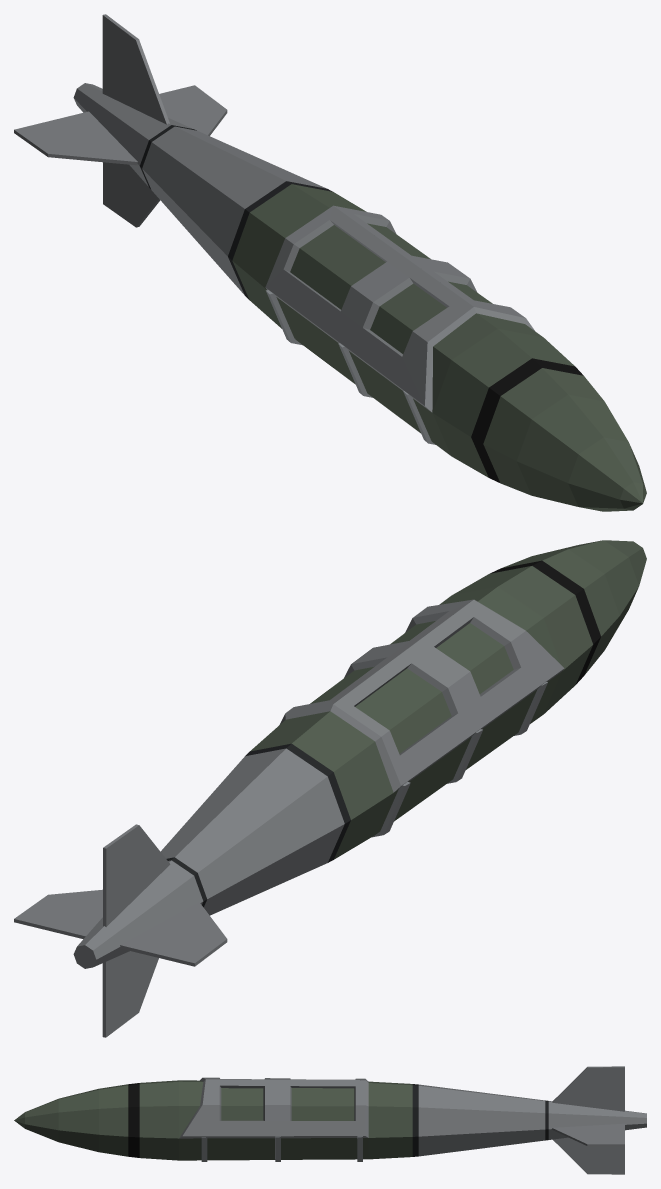
File: SM_Veh_Jet_Attach_Bomb_01.fbx
3 views of the same model, one above another, from view 1: azimuth 30°, elevation 25°; view 2: azimuth 150°, elevation 25°; view 3: azimuth 270°, elevation 25° (orthographic). The views are drawn at different scales.
Visible parts, largest first — view 1: SM_Veh_Jet_Attach_Bomb_01; view 2: SM_Veh_Jet_Attach_Bomb_01; view 3: SM_Veh_Jet_Attach_Bomb_01.
Part boxes in pixels (bbox=[...]): SM_Veh_Jet_Attach_Bomb_01: bbox=[14, 14, 646, 511]; SM_Veh_Jet_Attach_Bomb_01: bbox=[14, 540, 646, 1037]; SM_Veh_Jet_Attach_Bomb_01: bbox=[14, 1066, 646, 1174].
Bounding box in the file's own units: 55.75 × 55.75 × 298.
